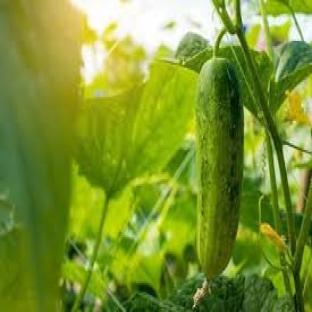Cucumber: (196, 58, 243, 279)
